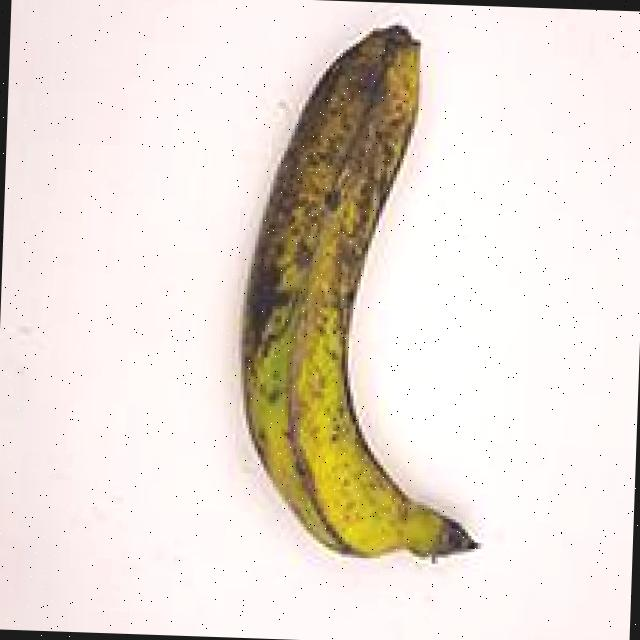Overripe: (203, 0, 521, 604)
